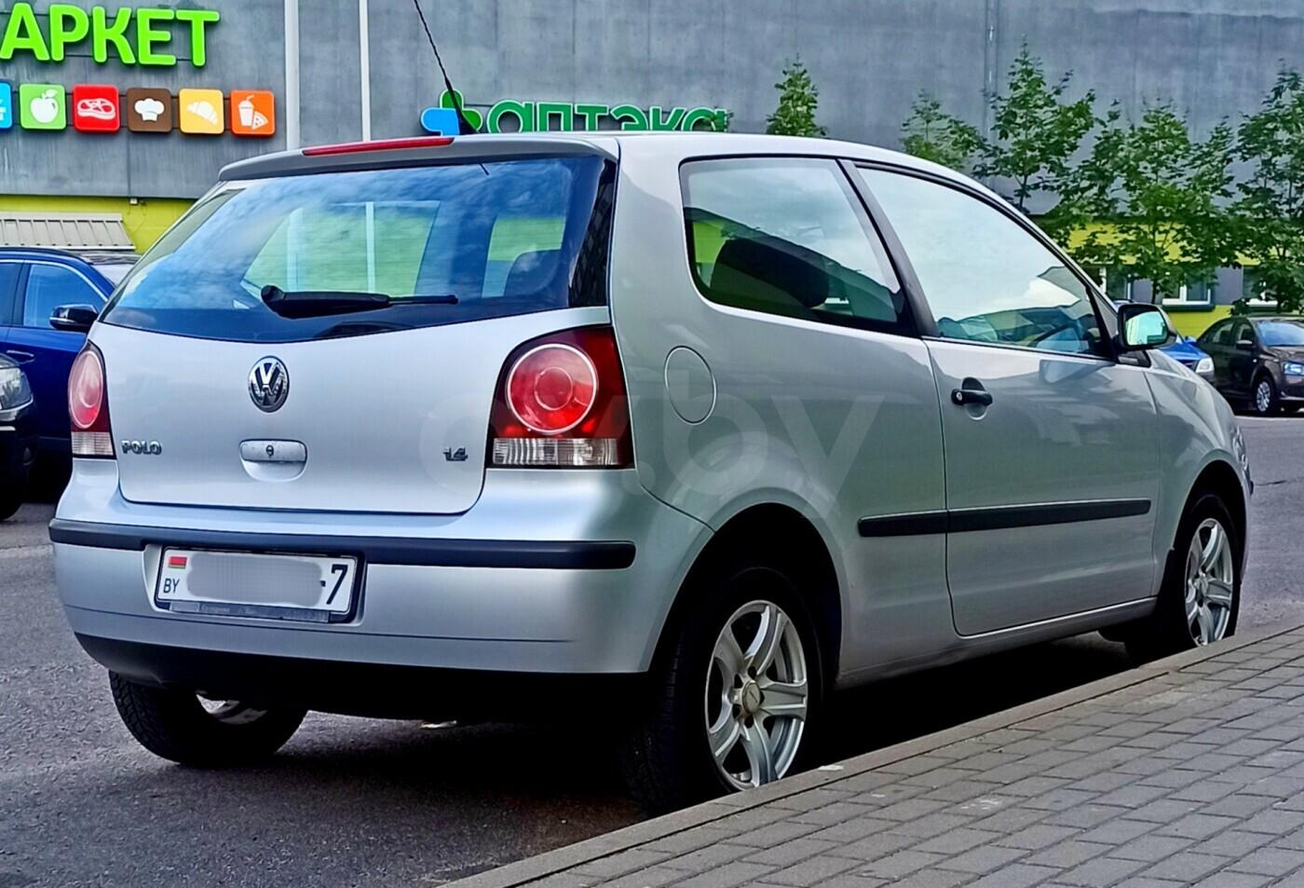Polo_2005-2009: (50, 131, 1269, 798)
